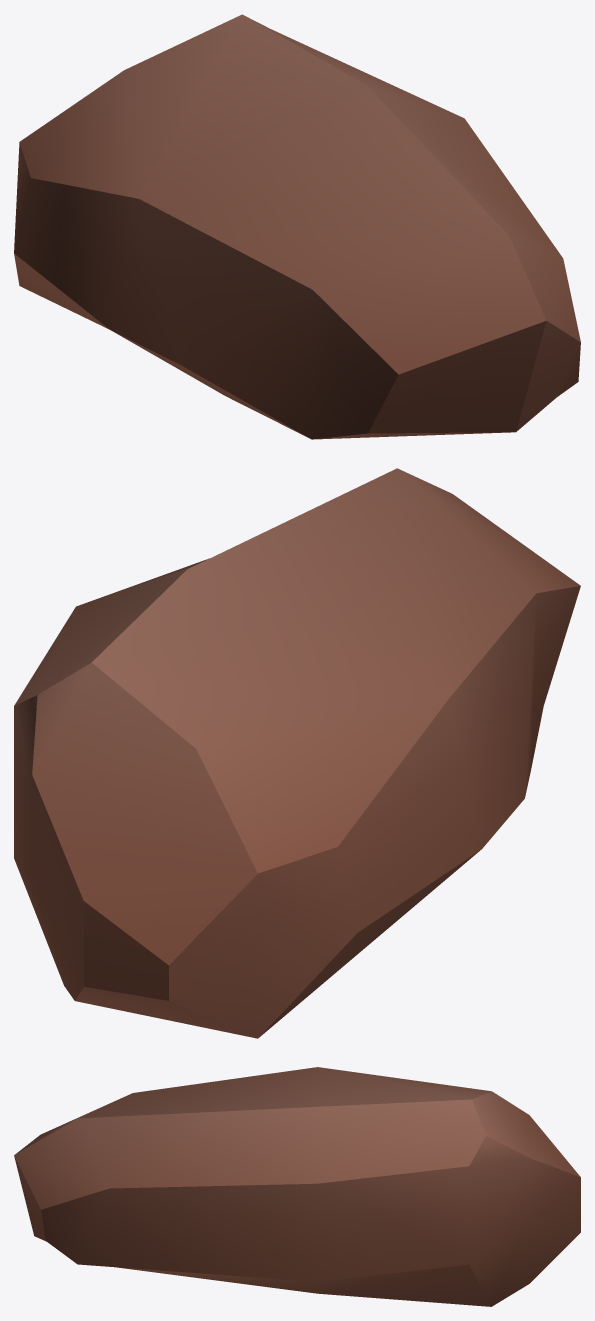
File: Prop_stone_01.fbx
The picture shows the model from 3 angles, top to bottom: view 1: azimuth 30°, elevation 25°; view 2: azimuth 150°, elevation 25°; view 3: azimuth 270°, elevation 25°; orthographic projection. The views are drawn at different scales.
Parts seen in each view (by area): view 1: Stone_1; view 2: Stone_1; view 3: Stone_1.
Part boxes in pixels (<box>): Stone_1: <box>14,14,580,439</box>; Stone_1: <box>14,468,580,1038</box>; Stone_1: <box>14,1067,580,1306</box>.
Size of the model in its own units: 252 by 187 by 472.
